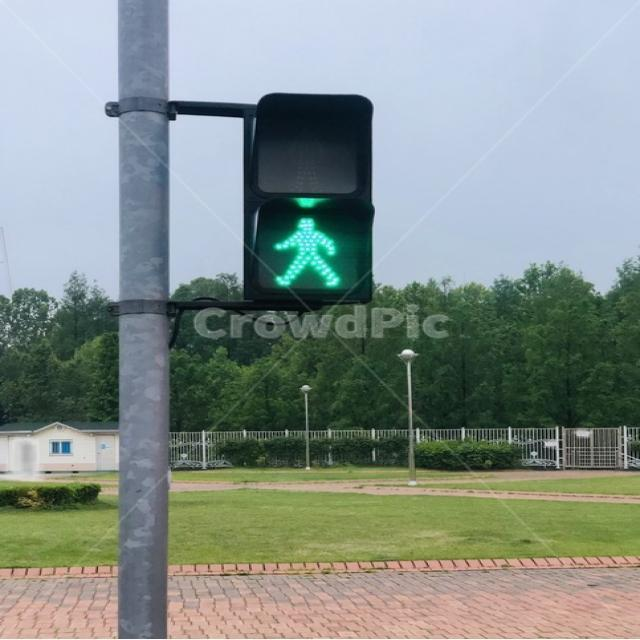green_light: (264, 214, 360, 294)
